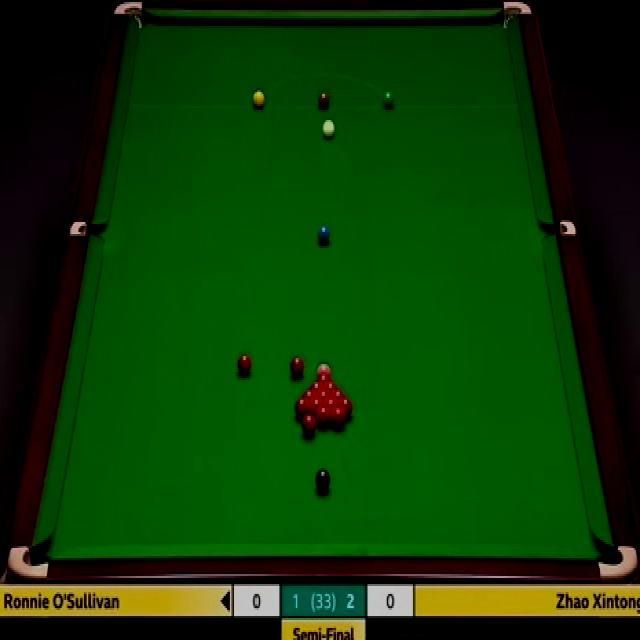black-ball: (315, 467, 331, 493)
blue-ball: (317, 224, 330, 242)
brown-ball: (317, 92, 330, 109)
green-ball: (382, 88, 396, 112)
pink-ball: (317, 363, 332, 380)
red-ball: (332, 404, 346, 433), (294, 395, 310, 419), (238, 353, 252, 378), (295, 352, 309, 377), (316, 405, 331, 426), (301, 416, 316, 436), (338, 398, 353, 418), (310, 398, 324, 416), (316, 389, 332, 404), (324, 378, 337, 394), (301, 388, 315, 402), (310, 379, 323, 394), (325, 399, 339, 411), (332, 390, 346, 400)
white-ball: (323, 120, 335, 138)
yellow-ball: (252, 89, 266, 110)
